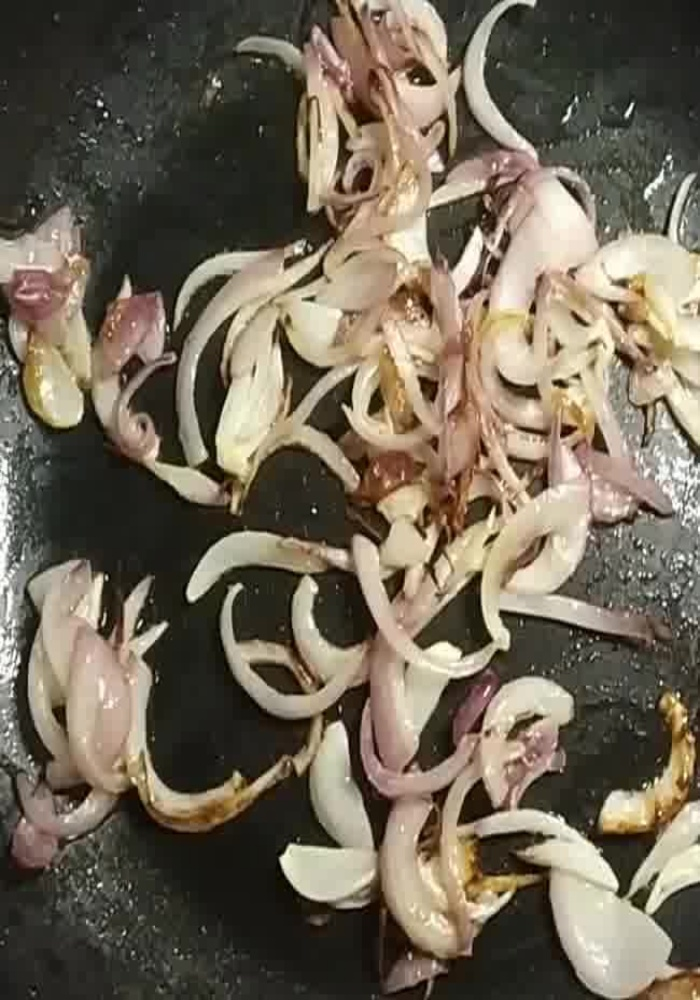onion_fried: (381, 787, 507, 975), (218, 579, 375, 716), (290, 252, 459, 378), (354, 367, 474, 544), (190, 258, 281, 481), (380, 584, 478, 787), (1, 222, 92, 425), (551, 863, 664, 1000), (92, 290, 168, 461), (612, 698, 692, 858), (139, 761, 293, 826), (177, 540, 359, 584)
onion_golden: (498, 193, 700, 522), (292, 1, 448, 244), (28, 573, 146, 793), (478, 469, 577, 638)
